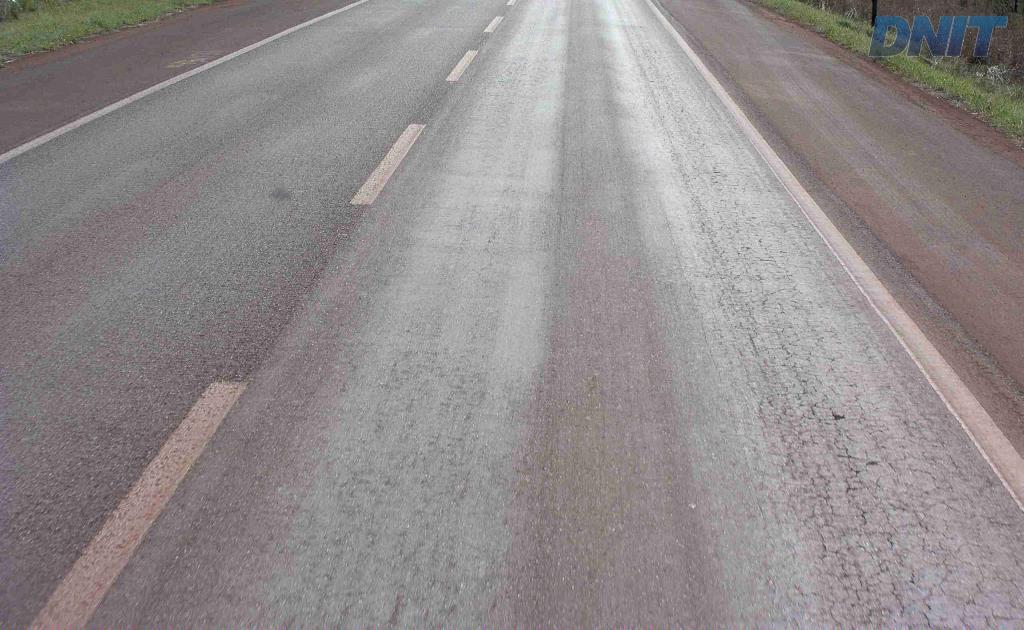crack: (949, 461, 1013, 549), (808, 463, 862, 564), (832, 437, 876, 527), (824, 540, 883, 592)
